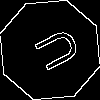U: (25, 25, 82, 78)
